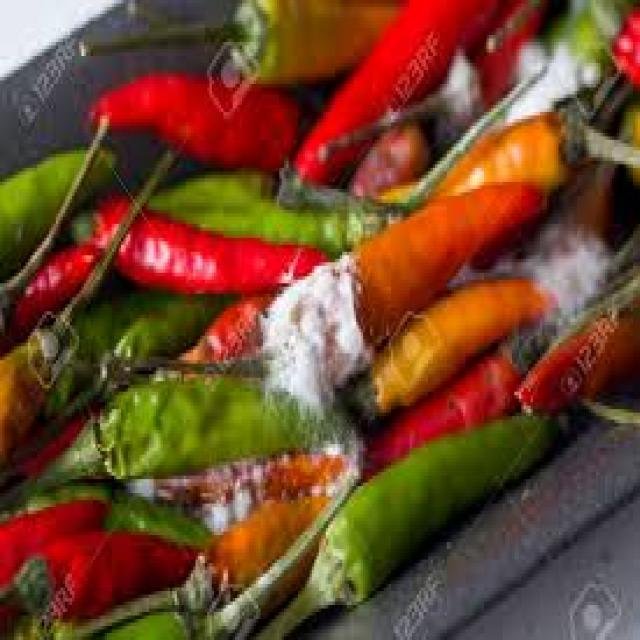organic waste: (254, 409, 577, 637), (256, 178, 547, 392), (0, 143, 179, 462), (88, 472, 352, 637), (0, 378, 305, 510), (68, 489, 338, 636), (5, 294, 224, 462), (309, 0, 551, 150), (0, 150, 177, 350), (10, 300, 224, 462), (358, 314, 566, 476), (63, 192, 333, 298), (79, 0, 400, 77), (426, 105, 638, 217), (137, 164, 405, 248), (89, 73, 308, 175), (40, 290, 193, 409), (0, 525, 198, 612), (498, 0, 637, 115), (452, 220, 612, 315), (0, 143, 112, 270), (0, 496, 102, 629), (512, 308, 638, 409), (158, 290, 282, 381), (561, 102, 638, 248), (577, 14, 638, 129), (14, 406, 102, 482), (346, 116, 424, 192), (9, 406, 86, 479), (186, 301, 265, 367), (582, 234, 638, 304)
